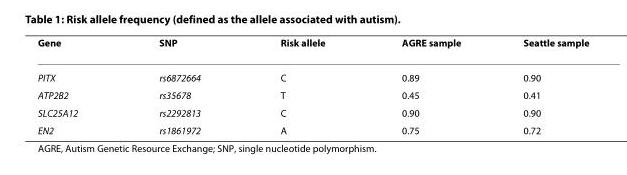table: (36, 36, 588, 135)
table column: (362, 36, 491, 135), (239, 36, 362, 135), (117, 36, 239, 135), (491, 36, 588, 135), (36, 36, 117, 135)
table column header: (36, 36, 588, 59)
table row: (36, 59, 588, 86), (36, 36, 588, 59), (36, 103, 588, 121), (36, 86, 588, 103), (36, 121, 588, 135)
